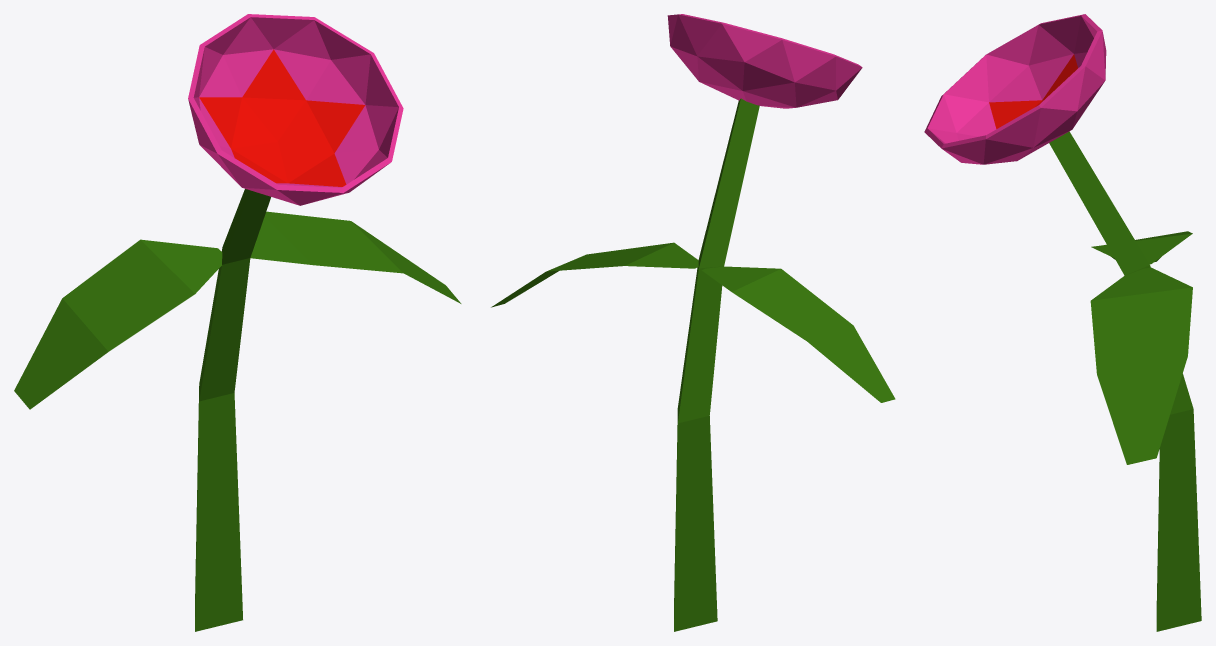
Rendered from blossom state 3.fbx.
The picture shows the model from 3 angles, left to right: view 1: azimuth 30°, elevation 25°; view 2: azimuth 150°, elevation 25°; view 3: azimuth 270°, elevation 25°; orthographic projection. The views are drawn at different scales.
Visible parts, largest first — view 1: blossom state 3; view 2: blossom state 3; view 3: blossom state 3.
Part boxes in pixels (left/top/right/bottom): blossom state 3: left=14, top=14, right=461, bottom=631; blossom state 3: left=491, top=14, right=895, bottom=631; blossom state 3: left=924, top=14, right=1201, bottom=631.
Size of the model in its own units: 44.17 by 61.88 by 26.34.
